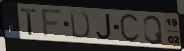C: (118, 12, 142, 46)
D: (68, 9, 91, 41)
F: (40, 8, 64, 39)
J: (95, 12, 113, 41)
Q: (142, 14, 165, 46)
T: (19, 7, 38, 37)
